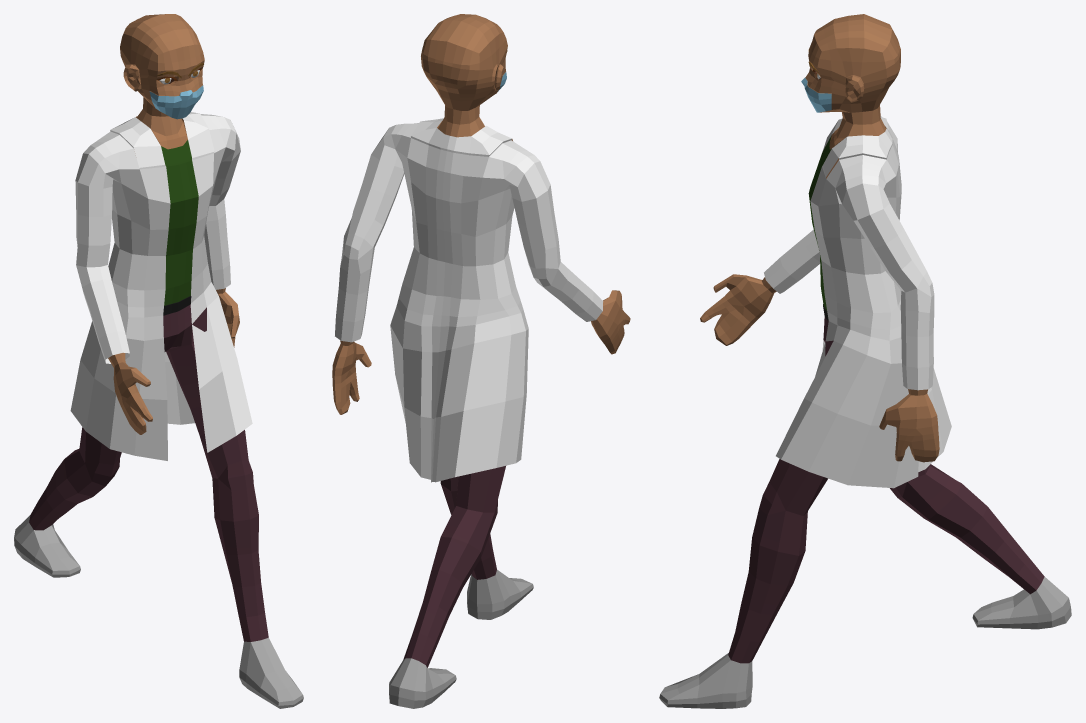
File: ScientistMale_Walk.fbx
3 views of the same model, side by side, from view 1: azimuth 30°, elevation 25°; view 2: azimuth 150°, elevation 25°; view 3: azimuth 270°, elevation 25° (orthographic). The views are drawn at different scales.
Parts seen in each view (by area): view 1: ScientistMale_Walk; view 2: ScientistMale_Walk; view 3: ScientistMale_Walk.
Boxes of the visible parts, x1,y1,x2,y2 form: ScientistMale_Walk: [14, 14, 303, 708]; ScientistMale_Walk: [332, 14, 630, 708]; ScientistMale_Walk: [659, 14, 1071, 708].
Size of the model in its own units: 0.3245 by 1.02 by 0.5758.
